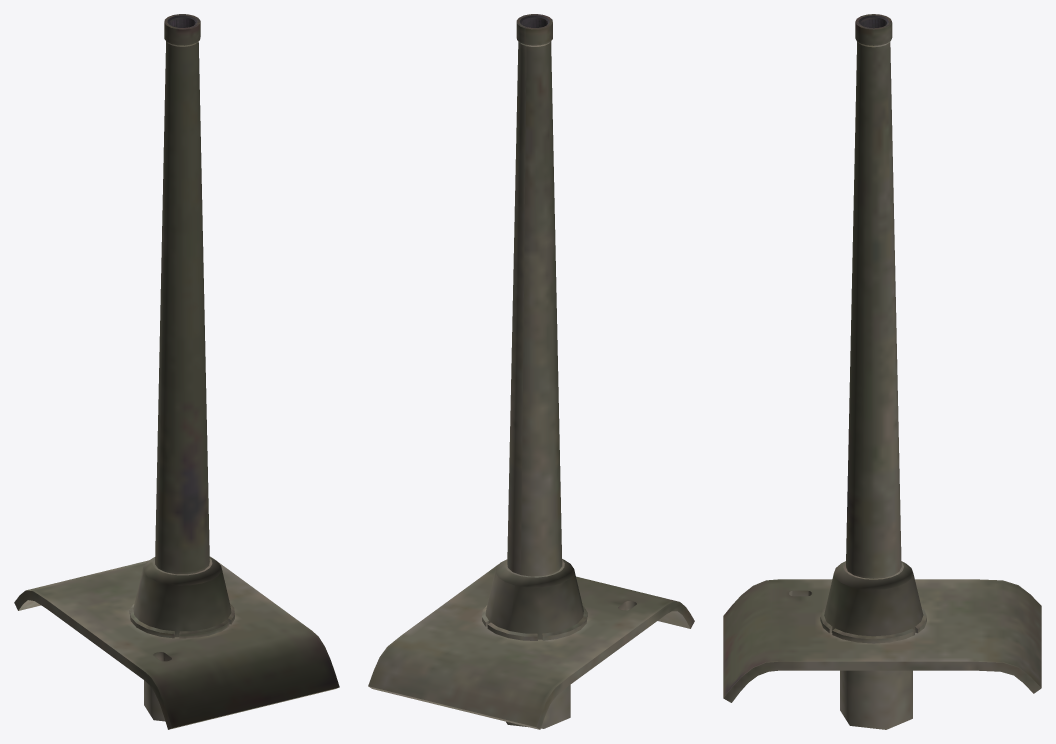
File: Gun_04.glb
3 renders of one model, left to right at view 1: azimuth 30°, elevation 25°; view 2: azimuth 150°, elevation 25°; view 3: azimuth 270°, elevation 25°, orthographic.
Parts seen in each view (by area): view 1: set_0_group_0; view 2: set_0_group_0; view 3: set_0_group_0.
Part boxes in pixels (bbox=[...]): set_0_group_0: bbox=[14, 14, 339, 729]; set_0_group_0: bbox=[368, 14, 694, 729]; set_0_group_0: bbox=[723, 14, 1041, 729].
Size of the model in its own units: 0.2692 by 1.06 by 0.4399.
1 material, 1 textured.
